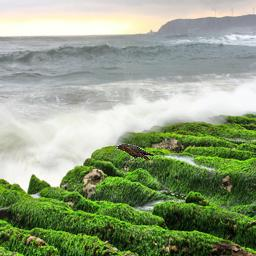Crow: (114, 143, 155, 163)
